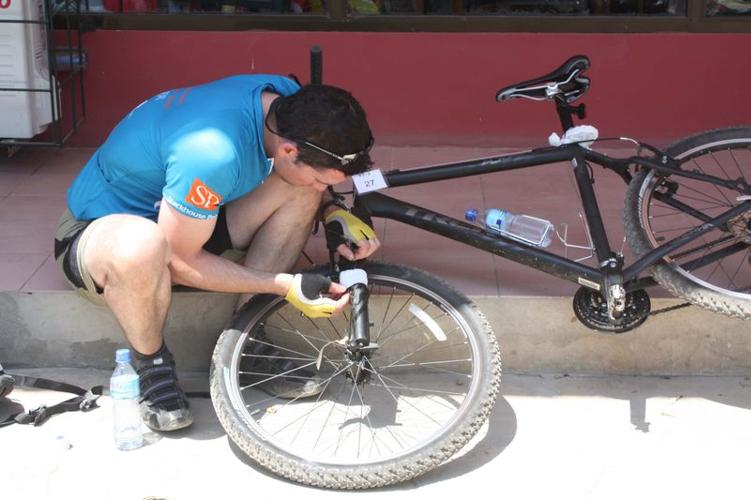person: (43, 68, 373, 437)
